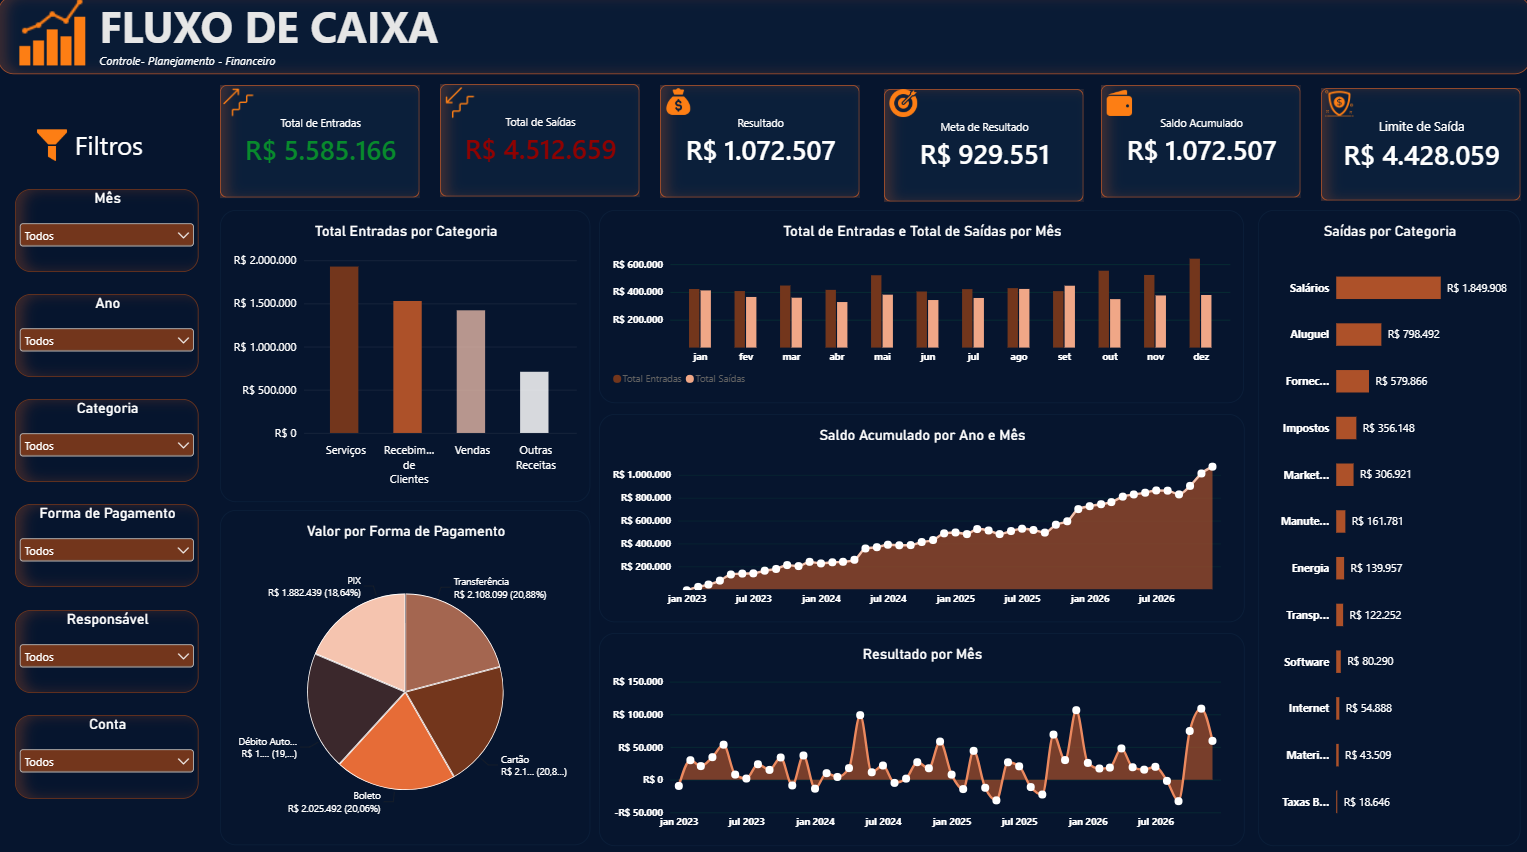

What the dashboard file says about the page in this screenshot:
{"tool":"powerbi","page":{"name":"Página 1","canvas":[1920,1080],"ordinal":0},"visuals":[{"type":"textbox","box":[25.9,164.3,225.1,44],"z":0},{"type":"textbox","box":[0,0,1920,98.3],"z":1000},{"type":"cardVisual","title":"Atingimento de Metas","fields":{"Data":["Calendario.Resultado Meta"]},"box":[1110.1,116.4,250,141],"z":2000},{"type":"cardVisual","fields":{"Data":["Calendario.Saldo Acumulado"]},"box":[1381.5,111.3,250,141],"z":3000},{"type":"cardVisual","fields":{"Data":["Calendario.Resultado"]},"box":[829.8,111.3,250,141],"z":4000},{"type":"cardVisual","fields":{"Data":["Calendario.Total Entradas"]},"box":[278.2,111.3,250,141.5],"z":5000},{"type":"cardVisual","fields":{"Data":["Calendario.Total Saídas"]},"box":[554,110,250,141.5],"z":6000},{"type":"clusteredColumnChart","title":"Total de Entradas e Total de Saídas por Mês","fields":{"Category":["Calendario.Mês"],"Y":["Calendario.Total Entradas","Calendario.Total Saídas"]},"box":[752.8,268.4,808.3,242.2],"z":7000},{"type":"columnChart","title":"Total Entradas por Categoria","fields":{"Category":["tbl_Fluxo_Caixa (2).Categoria"],"Y":["Calendario.Total Entradas"]},"box":[278.2,267.8,464.5,366.1],"z":8000},{"type":"lineChart","title":"Resultado por Mês","fields":{"Y":["Calendario.Resultado"],"Category":["Calendario.Ano_Mes.Variation.Hierarquia de datas.Ano","Calendario.Ano_Mes.Variation.Hierarquia de datas.Trimestre","Calendario.Ano_Mes.Variation.Hierarquia de datas.Mês","Calendario.Ano_Mes.Variation.Hierarquia de datas.Dia"]},"box":[753,798.3,808.6,266.5],"z":9000},{"type":"barChart","title":"Saídas por Categoria","fields":{"Category":["tbl_Fluxo_Caixa (2).Categoria"],"Y":["Calendario.Total Saídas"]},"box":[1578.4,267.8,328.6,797],"z":10000},{"type":"pieChart","title":"Valor por Forma de Pagamento","fields":{"Category":["tbl_Fluxo_Caixa (2).Forma_Pagamento"],"Y":["Sum(tbl_Fluxo_Caixa (2).Valor)"]},"box":[278.2,644.3,464.5,420.5],"z":11000},{"type":"lineChart","fields":{"Y":["Calendario.Saldo Acumulado"],"Category":["Calendario.Ano_Mes.Variation.Hierarquia de datas.Ano","Calendario.Ano_Mes.Variation.Hierarquia de datas.Mês"]},"box":[752.7,523.8,808.6,261.3],"z":12000},{"type":"slicer","title":"Categoria","fields":{"Values":["tbl_Fluxo_Caixa (2).Categoria"]},"box":[20.7,505.4,230.3,104],"z":13000},{"type":"slicer","title":"Forma de Pagamento","fields":{"Values":["tbl_Fluxo_Caixa (2).Forma_Pagamento"]},"box":[20.7,637.1,230,104],"z":14000},{"type":"slicer","title":"Ano","fields":{"Values":["Calendario.Ano"]},"box":[20.7,373.6,230.3,104],"z":15000},{"type":"slicer","title":"Mês","fields":{"Values":["Calendario.Mês"]},"box":[20.7,241.9,230.3,104],"z":16000},{"type":"slicer","title":"Responsável","fields":{"Values":["tbl_Fluxo_Caixa (2).Responsavel"]},"box":[20.7,768.8,230.3,104],"z":17000},{"type":"slicer","title":"Conta","fields":{"Values":["tbl_Fluxo_Caixa (2).Conta"]},"box":[20.7,900.5,230.3,104.8],"z":18000},{"type":"cardVisual","title":"Atingimento de Metas","fields":{"Data":["Calendario.Meta Saídas"]},"box":[1657.4,115.1,250,141],"z":19000},{"type":"image","box":[40.1,165.6,54.3,42.7],"z":20000},{"type":"image","box":[553.7,113.9,46.6,38.8],"z":21000},{"type":"image","box":[1381.8,115.1,46,38],"z":22000},{"type":"image","box":[1657.4,115.1,46,38],"z":23000},{"type":"image","box":[1111.4,115.1,46,38],"z":24000},{"type":"image","box":[0,0,135.8,86.7],"z":25000},{"type":"image","box":[278.2,112.6,46,38],"z":26000},{"type":"image","box":[829.3,113.9,46,38],"z":27000}]}

Visuals, with their boxes in screenshot pixels (x1, y1, x2, y2), scaled from the page's 1920x1080 canvas onto the 1527x852 screenshot:
textbox: 21/130/200/164
textbox: 0/0/1526/78
"Atingimento de Metas" cardVisual: 883/92/1082/203
cardVisual - Calendario.Saldo Acumulado: 1099/88/1298/199
cardVisual - Calendario.Resultado: 660/88/859/199
cardVisual - Calendario.Total Entradas: 221/88/420/199
cardVisual - Calendario.Total Saídas: 441/87/639/198
"Total de Entradas e Total de Saídas por Mês" clusteredColumnChart: 599/212/1242/403
"Total Entradas por Categoria" columnChart: 221/211/591/500
"Resultado por Mês" lineChart: 599/630/1242/840
"Saídas por Categoria" barChart: 1255/211/1517/840
"Valor por Forma de Pagamento" pieChart: 221/508/591/840
lineChart - Calendario.Saldo Acumulado x Calendario.Ano_Mes.Variation.Hierarquia de datas.Ano: 599/413/1242/619
"Categoria" slicer: 16/399/200/481
"Forma de Pagamento" slicer: 16/503/199/585
"Ano" slicer: 16/295/200/377
"Mês" slicer: 16/191/200/273
"Responsável" slicer: 16/606/200/689
"Conta" slicer: 16/710/200/793
"Atingimento de Metas" cardVisual: 1318/91/1517/202
image: 32/131/75/164
image: 440/90/477/120
image: 1099/91/1136/121
image: 1318/91/1355/121
image: 884/91/920/121
image: 0/0/108/68
image: 221/89/258/119
image: 660/90/696/120
